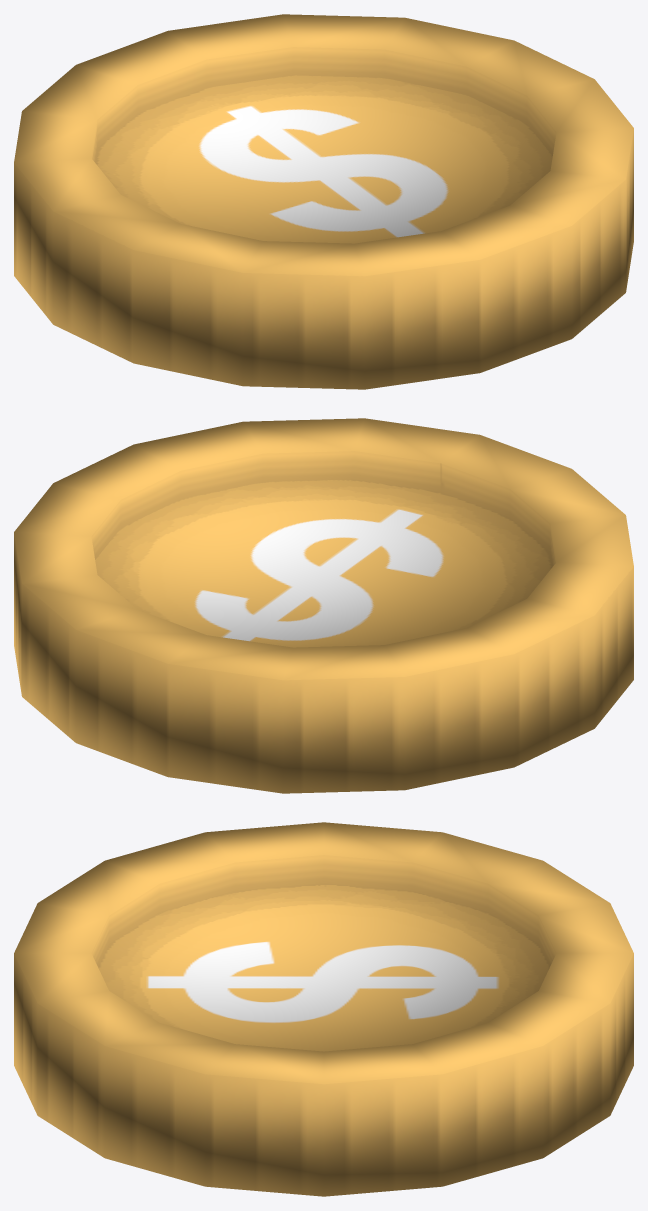
Rendered from Coin.obj.
3 views of the same model, one above another, from view 1: azimuth 30°, elevation 25°; view 2: azimuth 150°, elevation 25°; view 3: azimuth 270°, elevation 25° (orthographic).
Visible parts, largest first — view 1: Coin; view 2: Coin; view 3: Coin.
Boxes of the visible parts, <box> form: Coin: <box>14,14,633,389</box>; Coin: <box>14,418,633,793</box>; Coin: <box>14,822,633,1196</box>.
Size of the model in its own units: 2 by 0.4 by 2.
